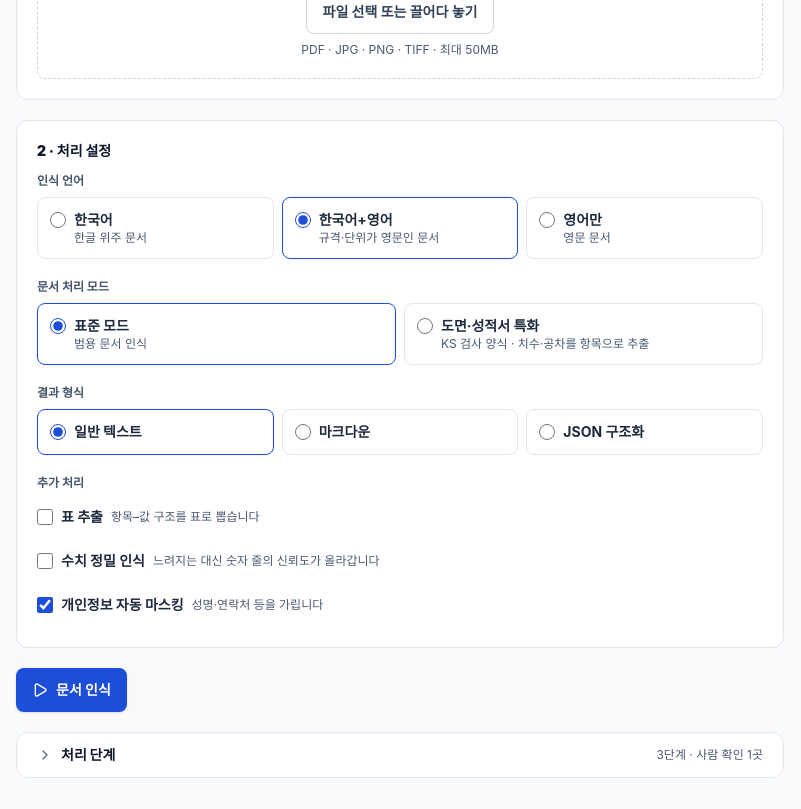
OcrPage › 인식 설정 › 수치 정밀 인식을 켜면 확인 필요 줄이 줄어든다
(page scrolled)
Check: the button "문서 인식" is shown, box [16,668,127,712]
Click the checkbox labelled "수치 정밀 인식 느려지는 대신 숫자 줄의 신뢰도가 올라갑니다".
click(45, 561)  # box [37,553,53,569]
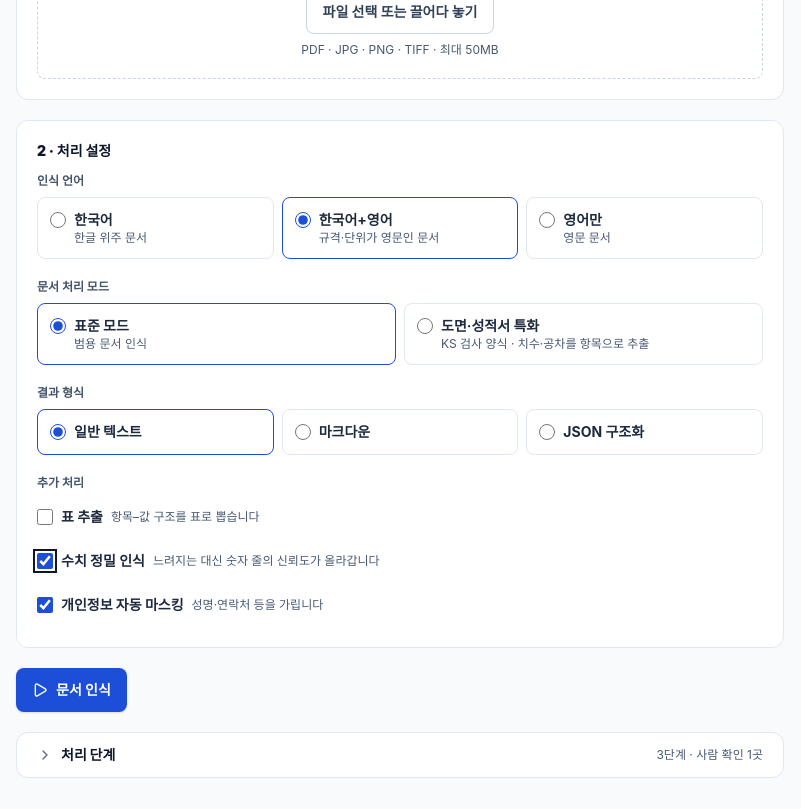
Click the button "문서 인식".
click(71, 690)  # box [16,668,127,712]
(page scrolled)
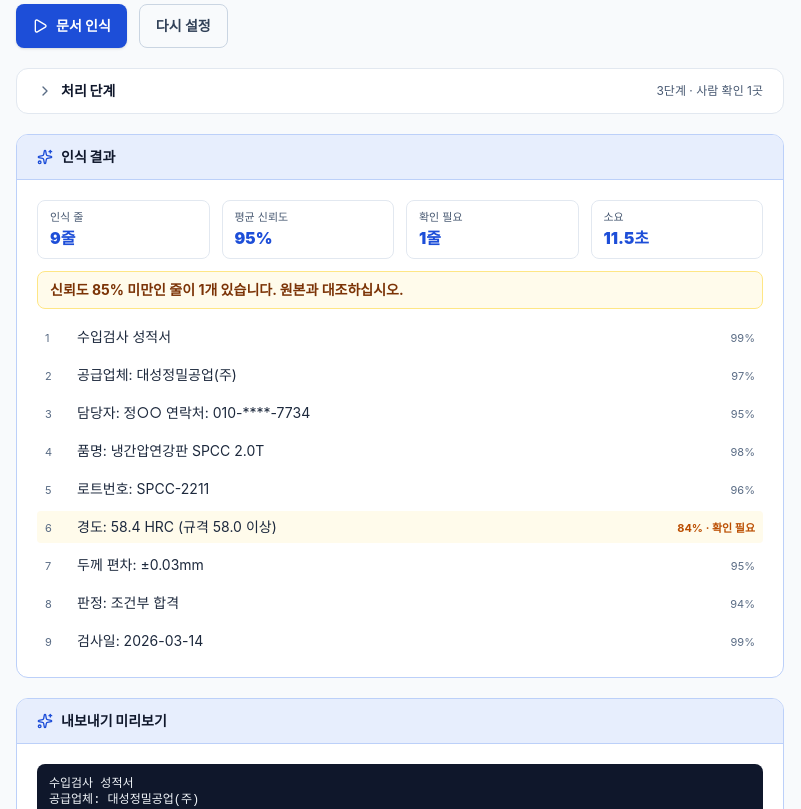
Check: the element "인식 결과" shows "미만인 줄이 1개 있습니다"
